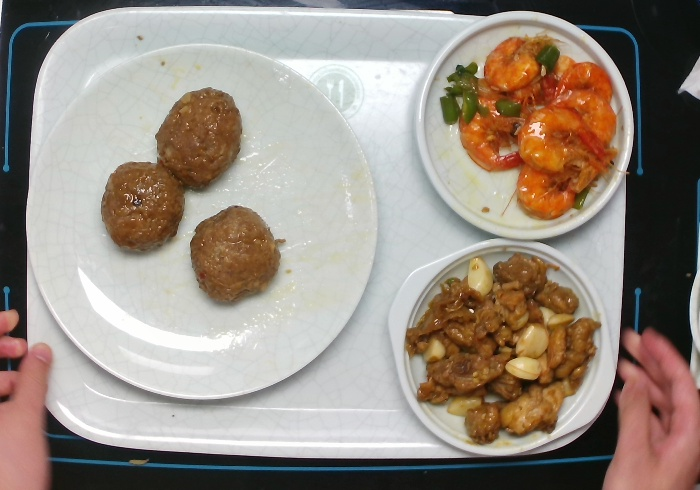JYsf-Da_Yuan_Pan: (24, 41, 378, 401)
JYsf-Shuang_Er_Pan: (387, 231, 617, 457)
JYsf-Xiao_Yuan_Pan: (415, 7, 635, 245)
